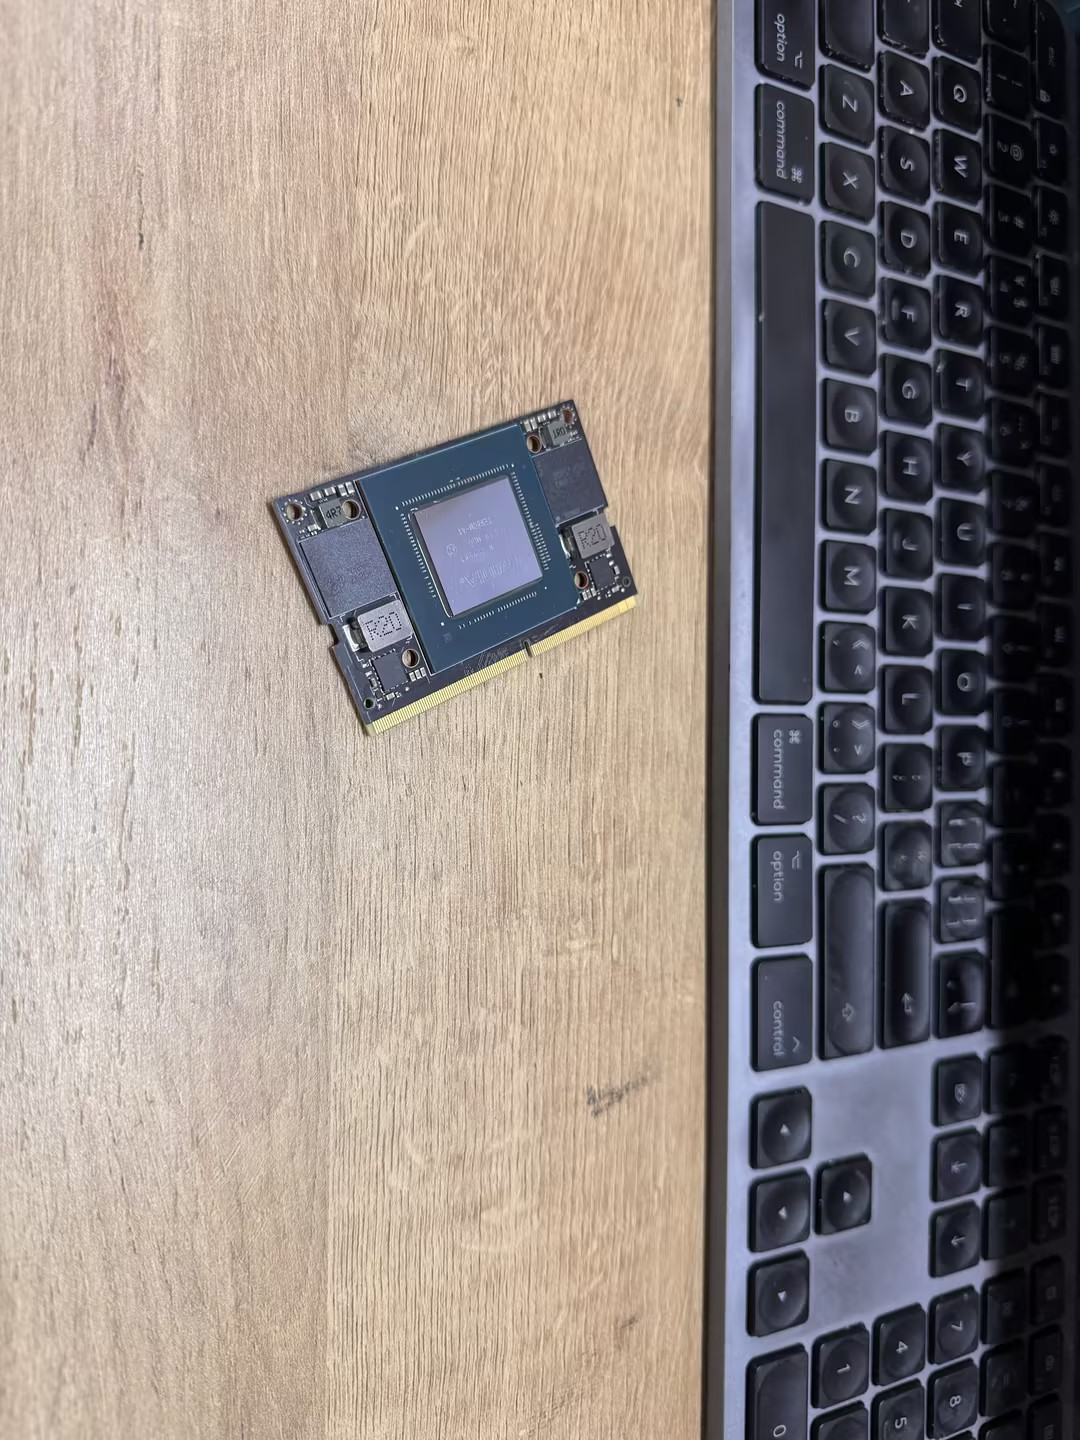Jetson Module: (259, 392, 642, 738)
